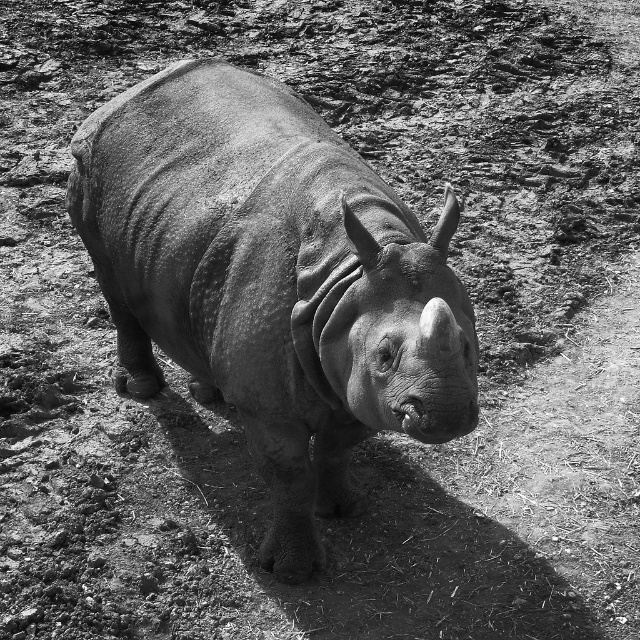Rhinoceros: (64, 55, 479, 582)
